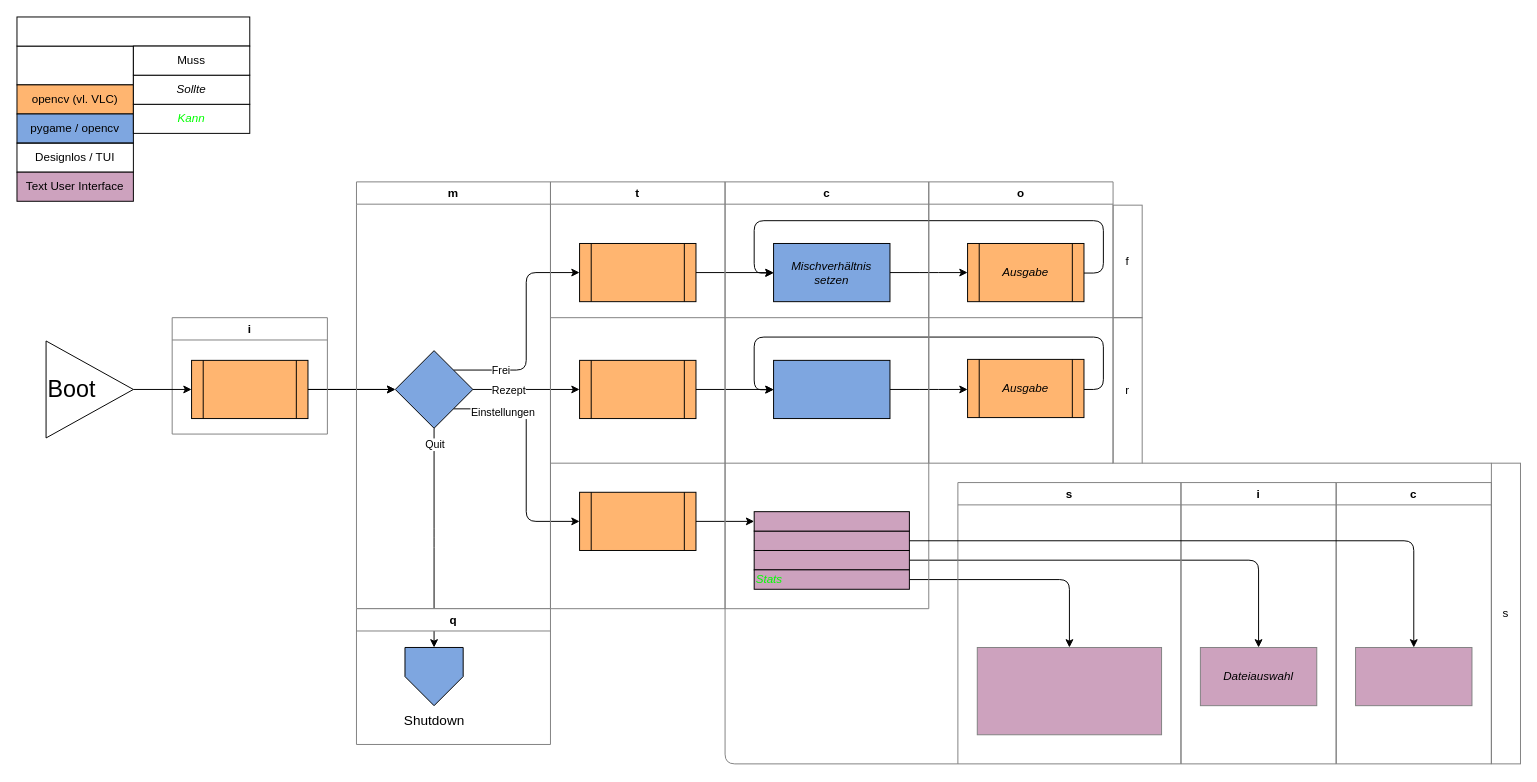
The diagram is 1537 pixels wide and 782 high, and some of its shapes have lost their labels. The centre of each missing label's shape, as x and y in pixels:
"Auswahl Rezept" belongs at point 831,389.
"Getränke auswählen (Standardauswahl)" belongs at point 1413,676.
"Getränke einstellen" belongs at point 831,540.
"Hauptmenü" belongs at point 433,389.
"Intro" belongs at point 249,389.
"Legende" belongs at point 133,31.
"Rezept / Getränk importieren" belongs at point 831,560.
"Settings" belongs at point 831,521.
"Statistiken Cocktails gemischt Menge ausgegeben etc." belongs at point 1069,691.
"Wiedergabe mit... / Design" belongs at point 74,65.
"Übergang Frei" belongs at point 637,272.
"Übergang Rezept" belongs at point 637,389.
"Übergang Settings" belongs at point 637,520.
